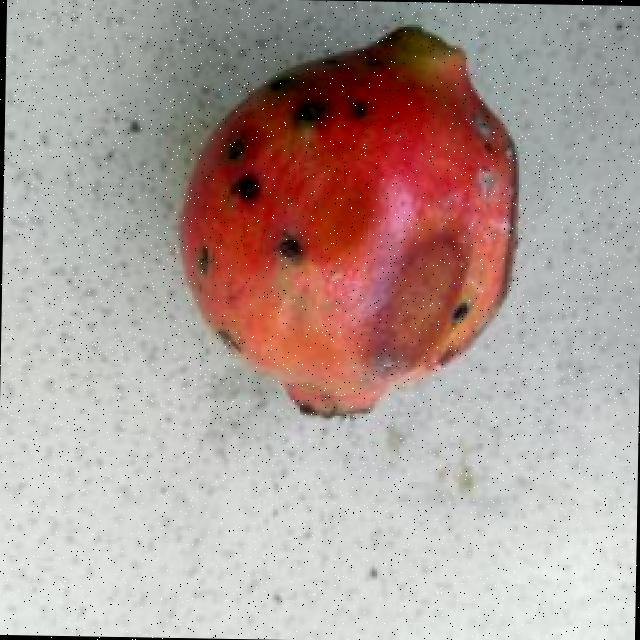overripe: (172, 15, 527, 427)
